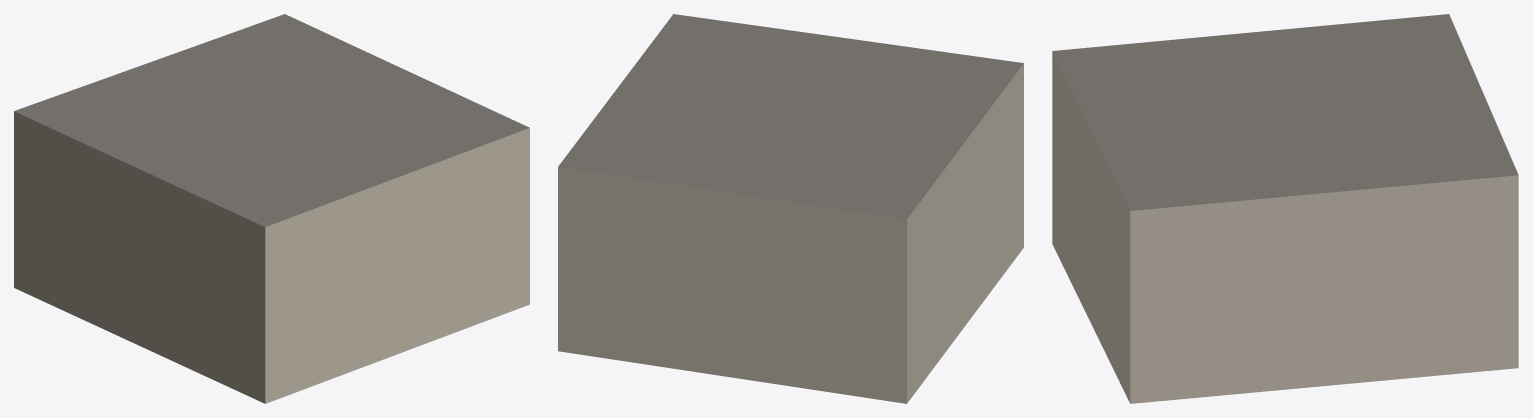
3 views of the same model, side by side, from view 1: azimuth 30°, elevation 25°; view 2: azimuth 150°, elevation 25°; view 3: azimuth 270°, elevation 25° (orthographic). The views are drawn at different scales.
Visible parts, largest first — view 1: HP-w303313598; view 2: HP-w303313598; view 3: HP-w303313598.
Boxes of the visible parts, box(x1,y1,x2,y2) form: HP-w303313598: box(14, 14, 529, 403); HP-w303313598: box(558, 14, 1023, 403); HP-w303313598: box(1052, 14, 1518, 403).
Bounding box in the file's own units: 39.43 × 18 × 39.44.
